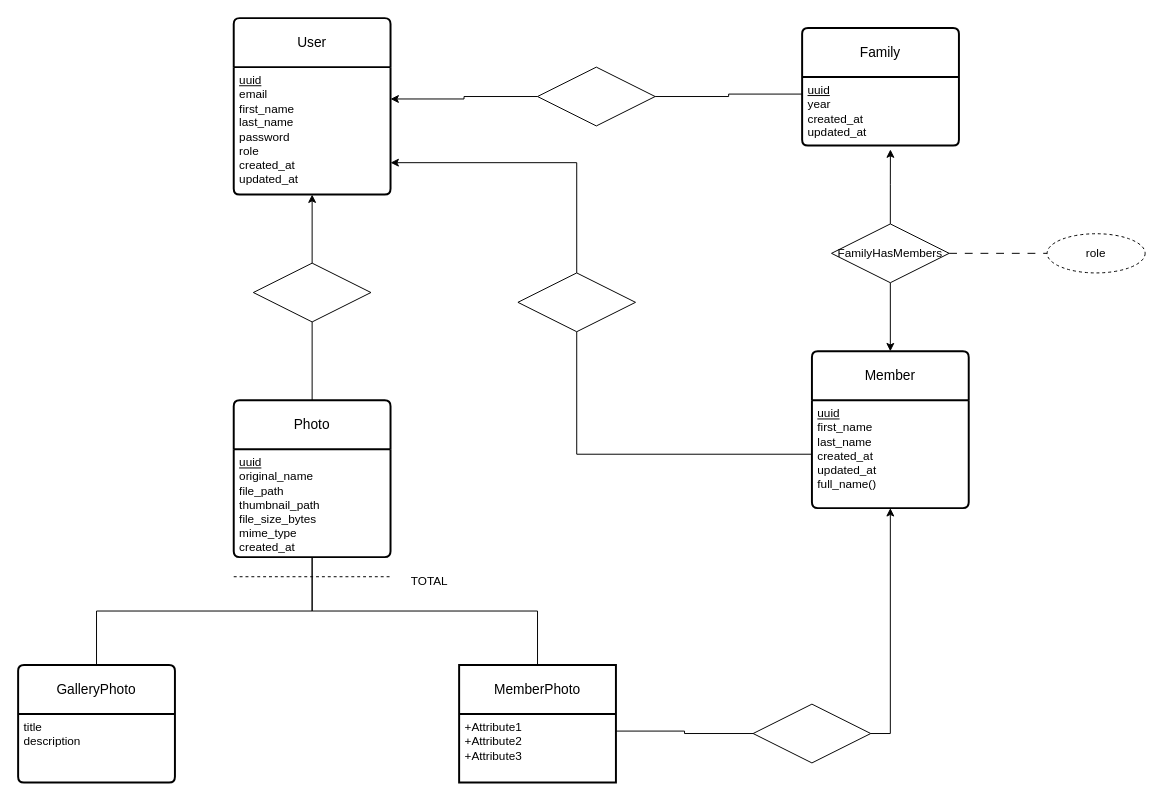
This 1162x800 diagram has some shape labels left out. Here are the shapes that lost their labels. From the top down, the centre of each, then its label:
At (x=596, y=96): "UserCreatesFamily".
At (x=311, y=292): "UserUploadsPhoto".
At (x=576, y=302): "UserCreatesMember".
At (x=811, y=733): "MemberHasPhoto".
